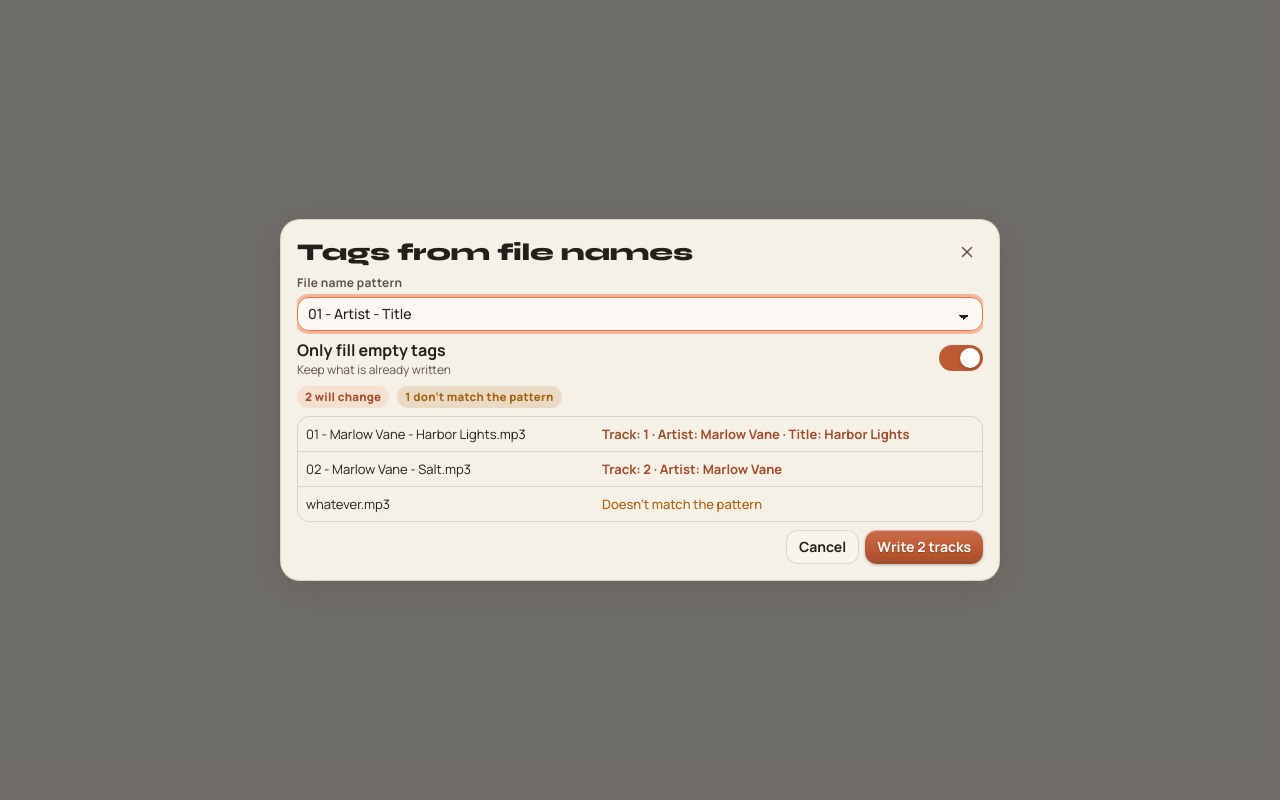
FilenameTagsDialog › can overwrite existing tags
The image size is (1280, 800).
Click the switch named "Only fill empty tags" at (961, 358), box [939,345,983,371]
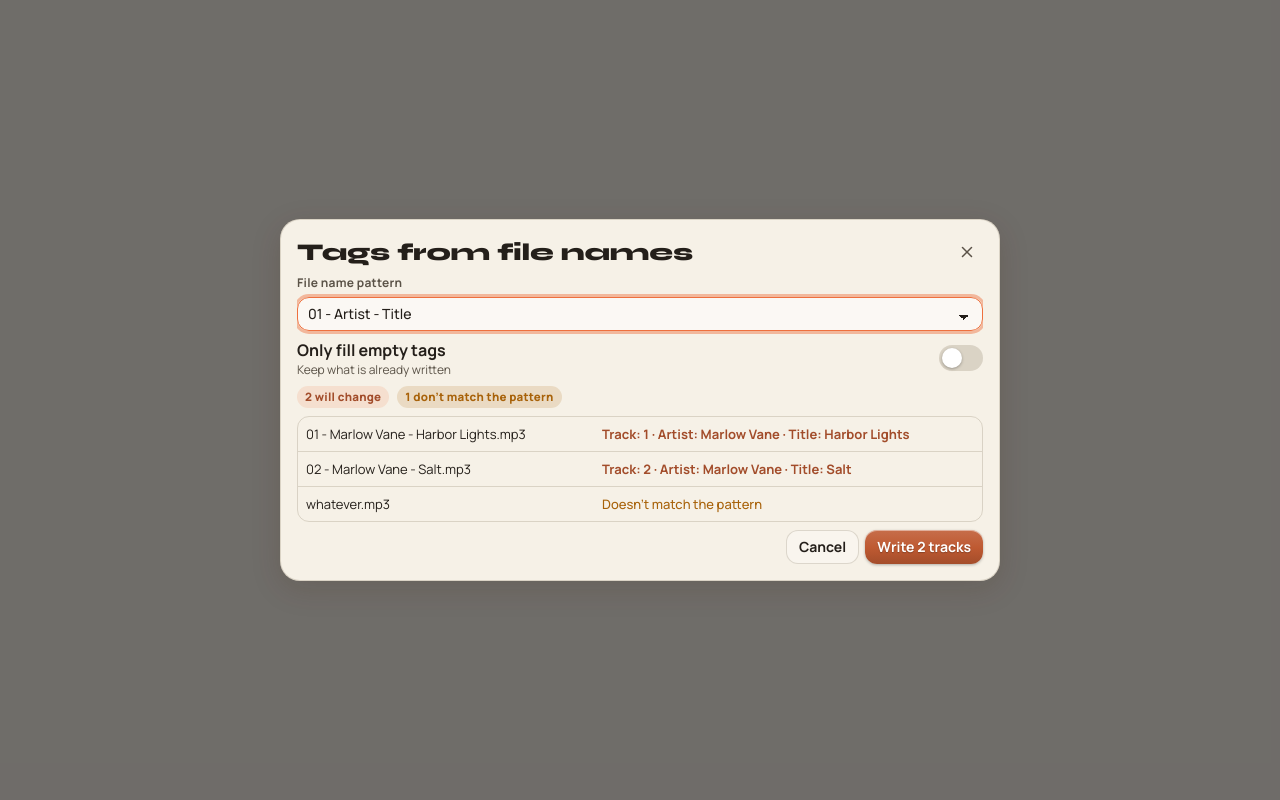
Result: the text "Track: 2 · Artist: Marlow Vane · Title: Salt" is shown at [602,460,852,478]
